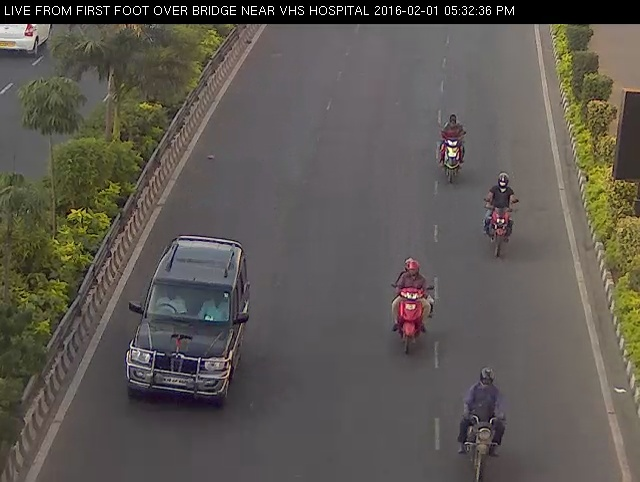Car: (114, 225, 260, 425)
Person: (449, 358, 519, 480), (376, 254, 444, 363), (479, 167, 522, 264), (433, 100, 471, 190)
